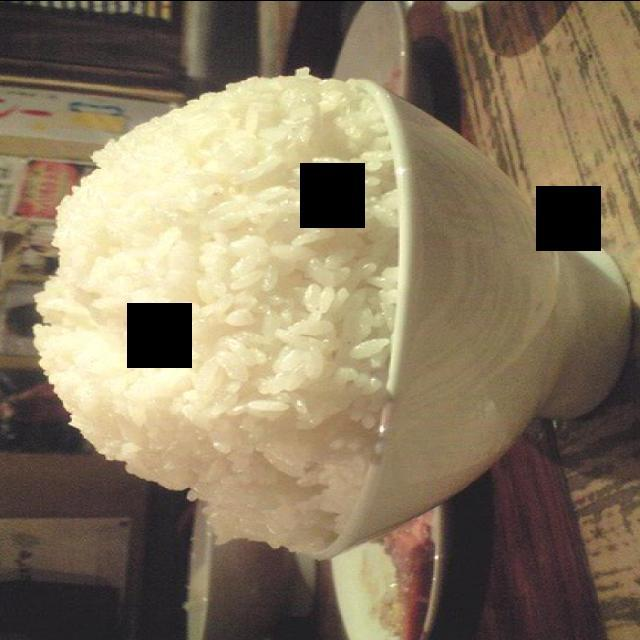rice: (28, 76, 399, 550)
